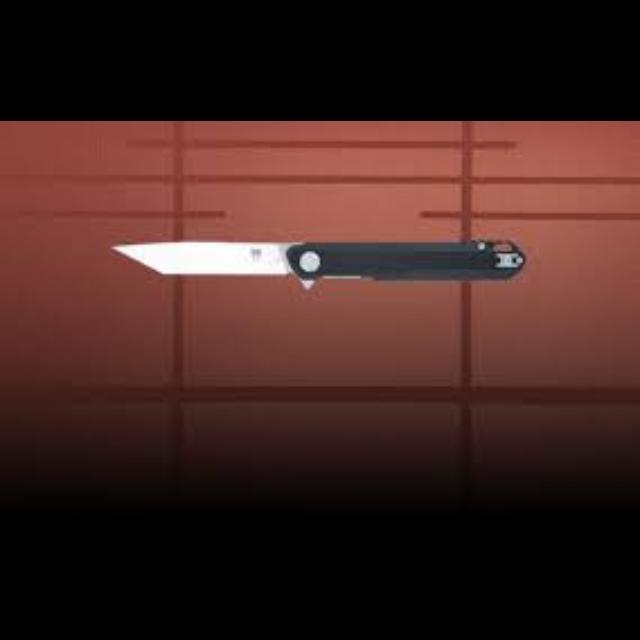Knife: (109, 238, 525, 284)
